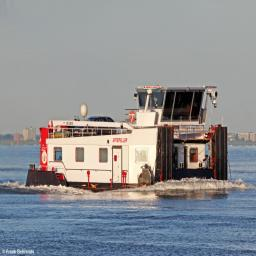tugboat: (22, 85, 246, 200)
